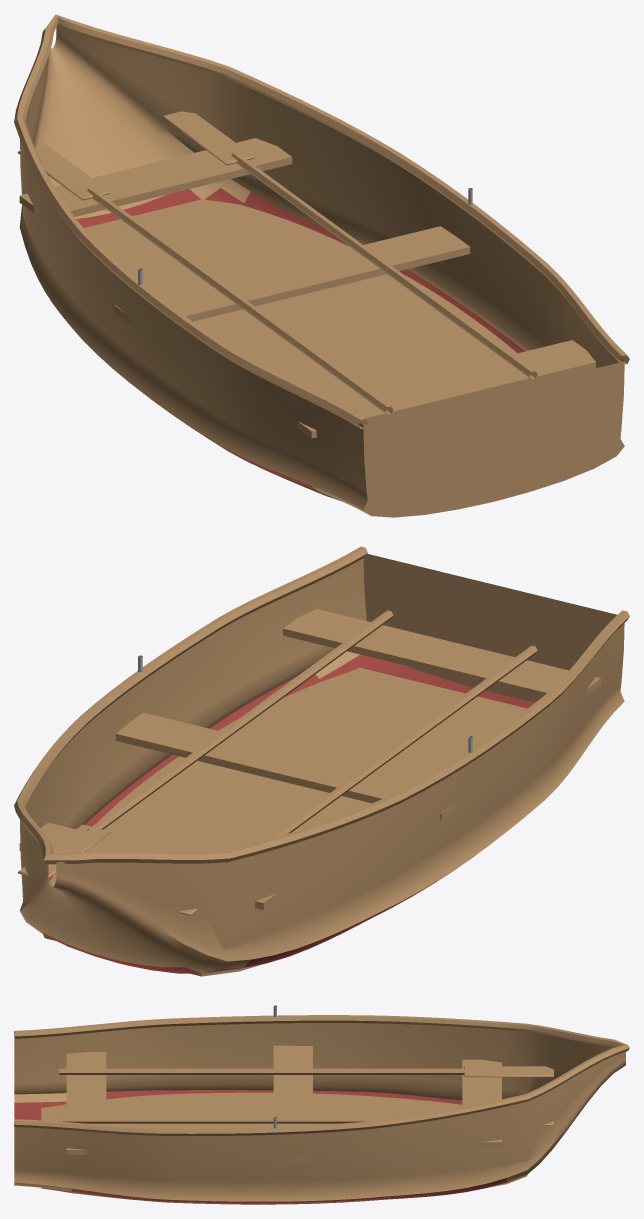
File: boat_dinghy.gltf
3 views of the same model, one above another, from view 1: azimuth 30°, elevation 25°; view 2: azimuth 150°, elevation 25°; view 3: azimuth 270°, elevation 25° (orthographic). The views are drawn at different scales.
Parts seen in each view (by area): view 1: boat_dinghy; view 2: boat_dinghy; view 3: boat_dinghy.
Boxes of the visible parts, left/top/right/bottom form: boat_dinghy: left=14, top=14, right=629, bottom=517; boat_dinghy: left=14, top=546, right=629, bottom=976; boat_dinghy: left=14, top=1005, right=629, bottom=1204.
Size of the model in its own units: 1.51 by 0.7445 by 3.42.
3 materials, 1 textured.
